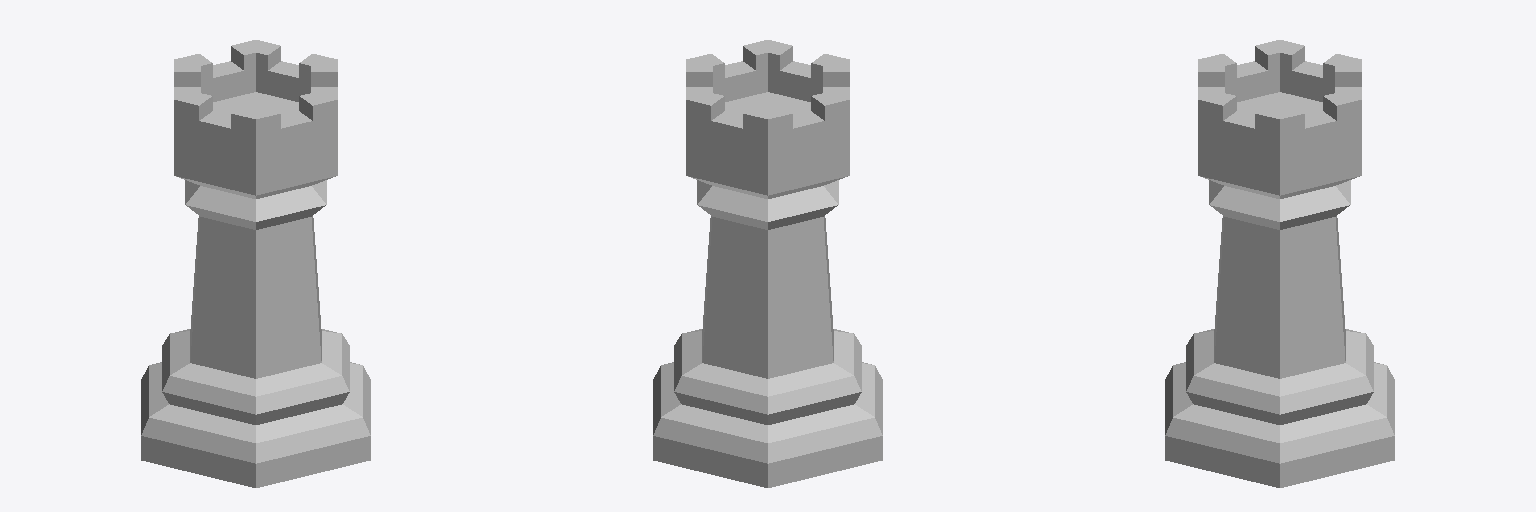
The model's file is torre.obj.
3 views of the same model, side by side, from view 1: azimuth 30°, elevation 25°; view 2: azimuth 150°, elevation 25°; view 3: azimuth 270°, elevation 25° (orthographic).
Parts seen in each view (by area): view 1: polySurface3 polySurface2 ImageToStl_com_chessset1:Mesh; view 2: polySurface3 polySurface2 ImageToStl_com_chessset1:Mesh; view 3: polySurface3 polySurface2 ImageToStl_com_chessset1:Mesh.
Boxes of the visible parts, x1,y1,x2,y2 form: polySurface3 polySurface2 ImageToStl_com_chessset1:Mesh: [141, 40, 370, 487]; polySurface3 polySurface2 ImageToStl_com_chessset1:Mesh: [653, 40, 882, 487]; polySurface3 polySurface2 ImageToStl_com_chessset1:Mesh: [1165, 40, 1394, 487].
Bounding box in the file's own units: 0.8957 × 1.32 × 0.7757.